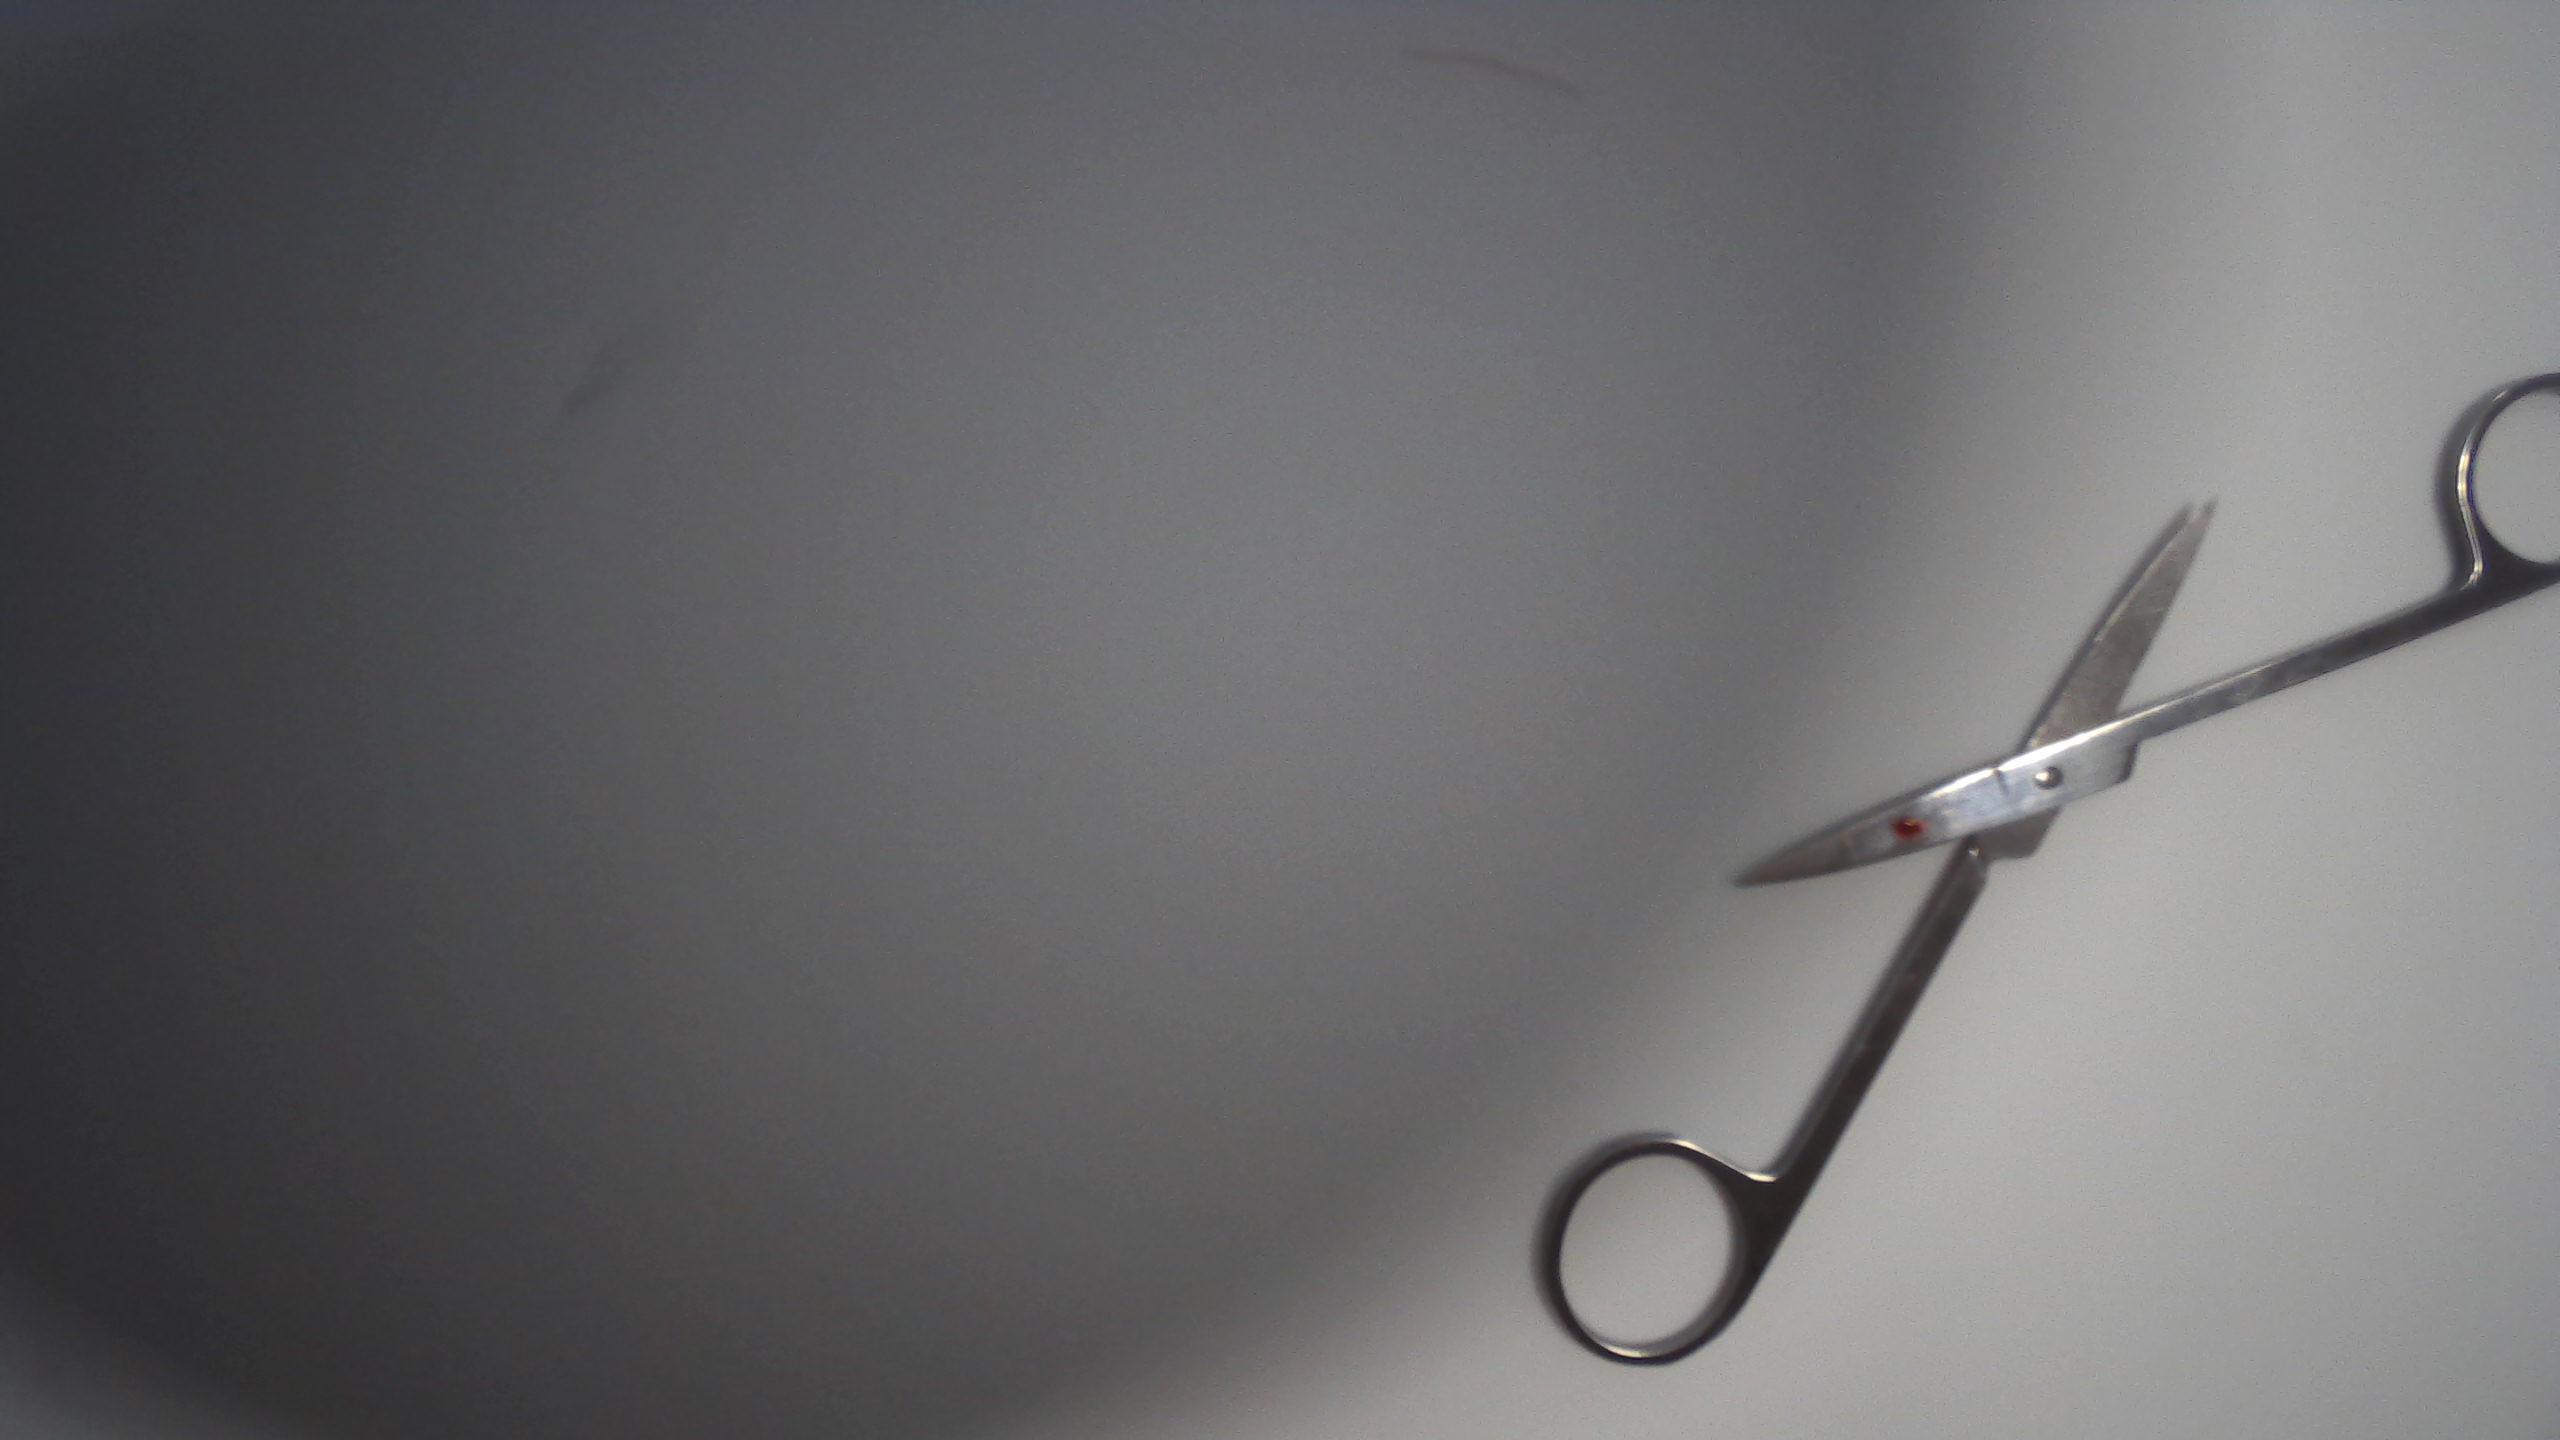Stain: (1880, 816, 1946, 853)
